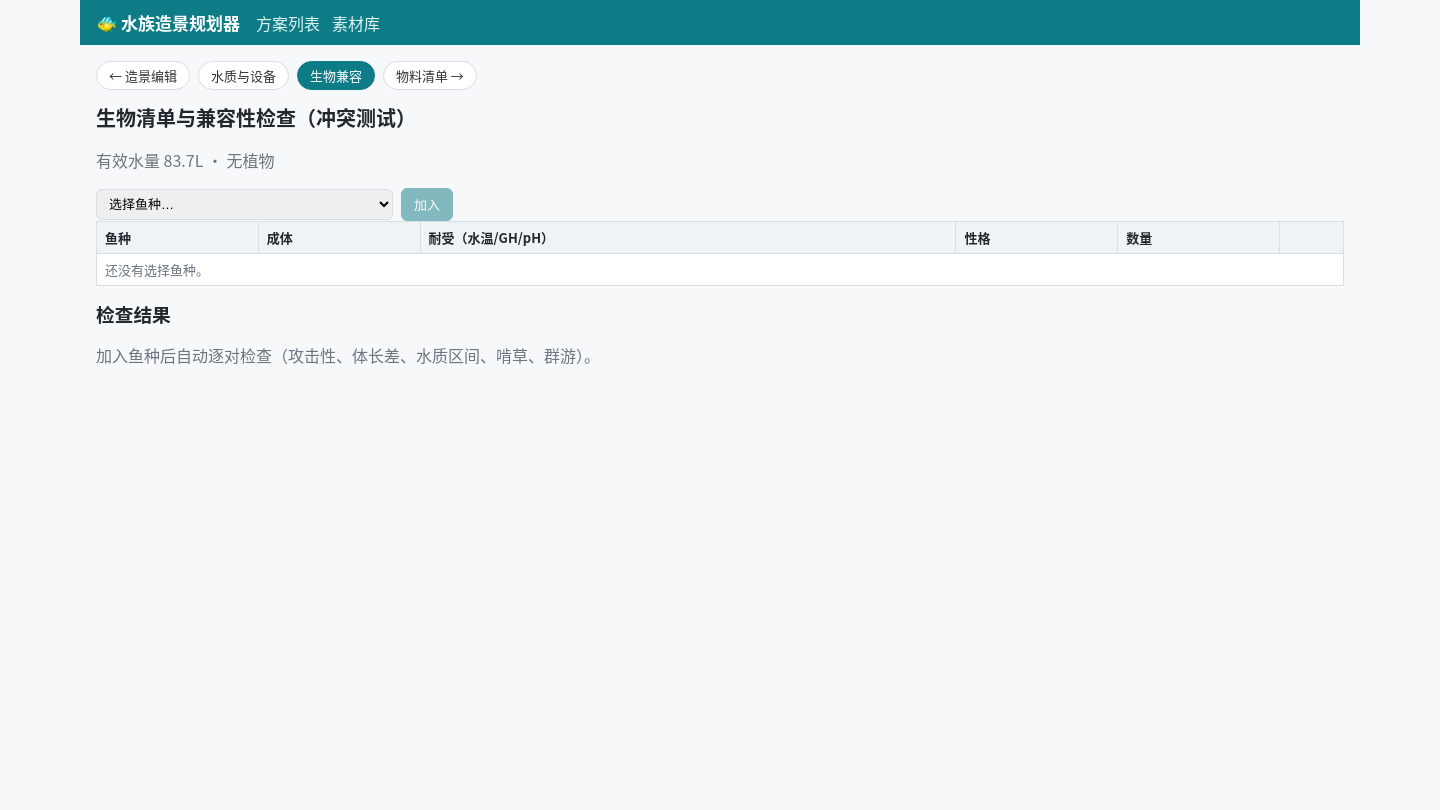
Test: 生物兼容页 › 水质需求无交集 → 硬冲突显示
This screenshot has width=1440, height=810.
Expected: the element with test id "stocking-page" is shown, [96,61,1344,367]
Select "金鱼（成体 20cm，≥100L）" in the dropdown with test id "fish-select" at (244, 205), box [96,189,393,220]
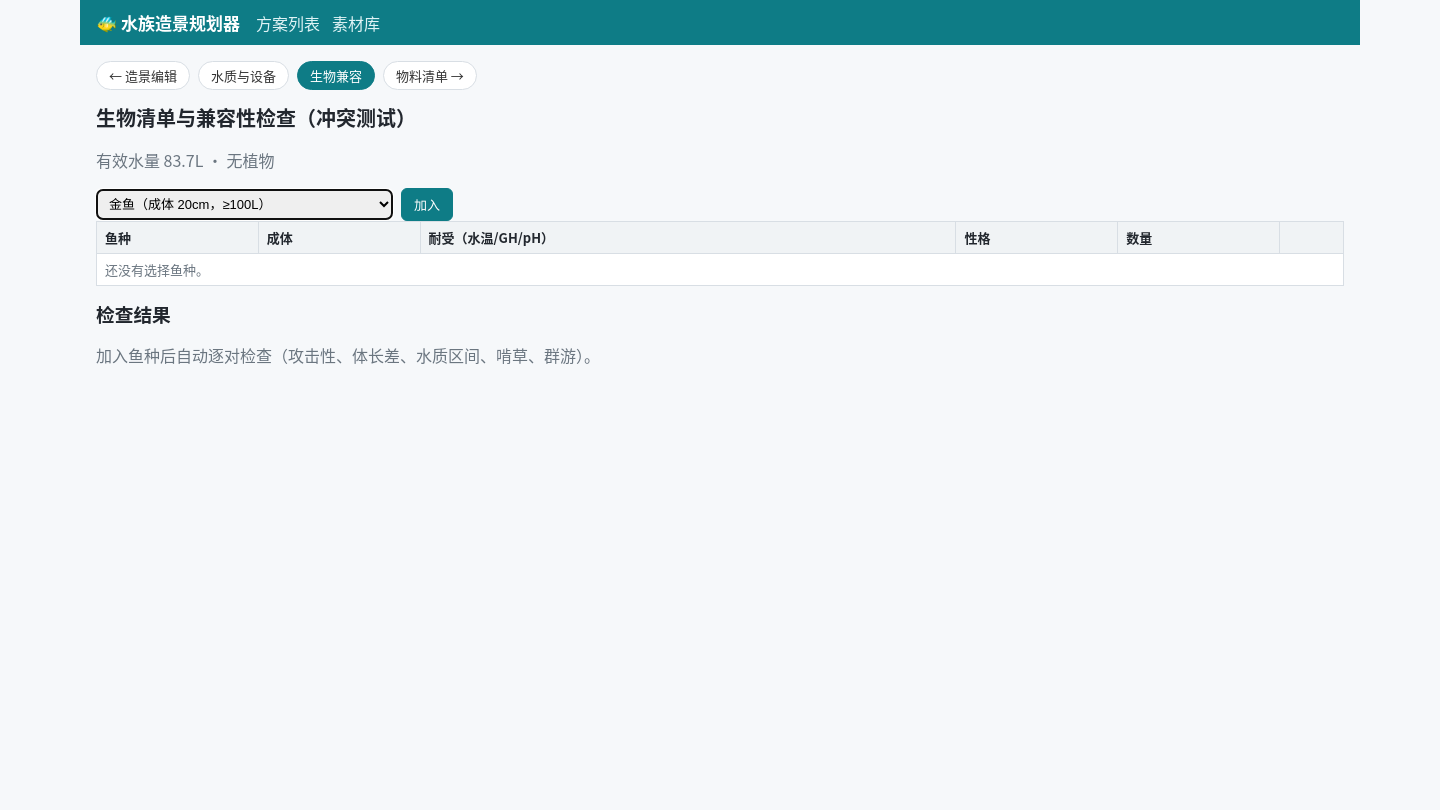
Click the button with test id "add-fish".
click(427, 205)  # box [401,188,453,221]
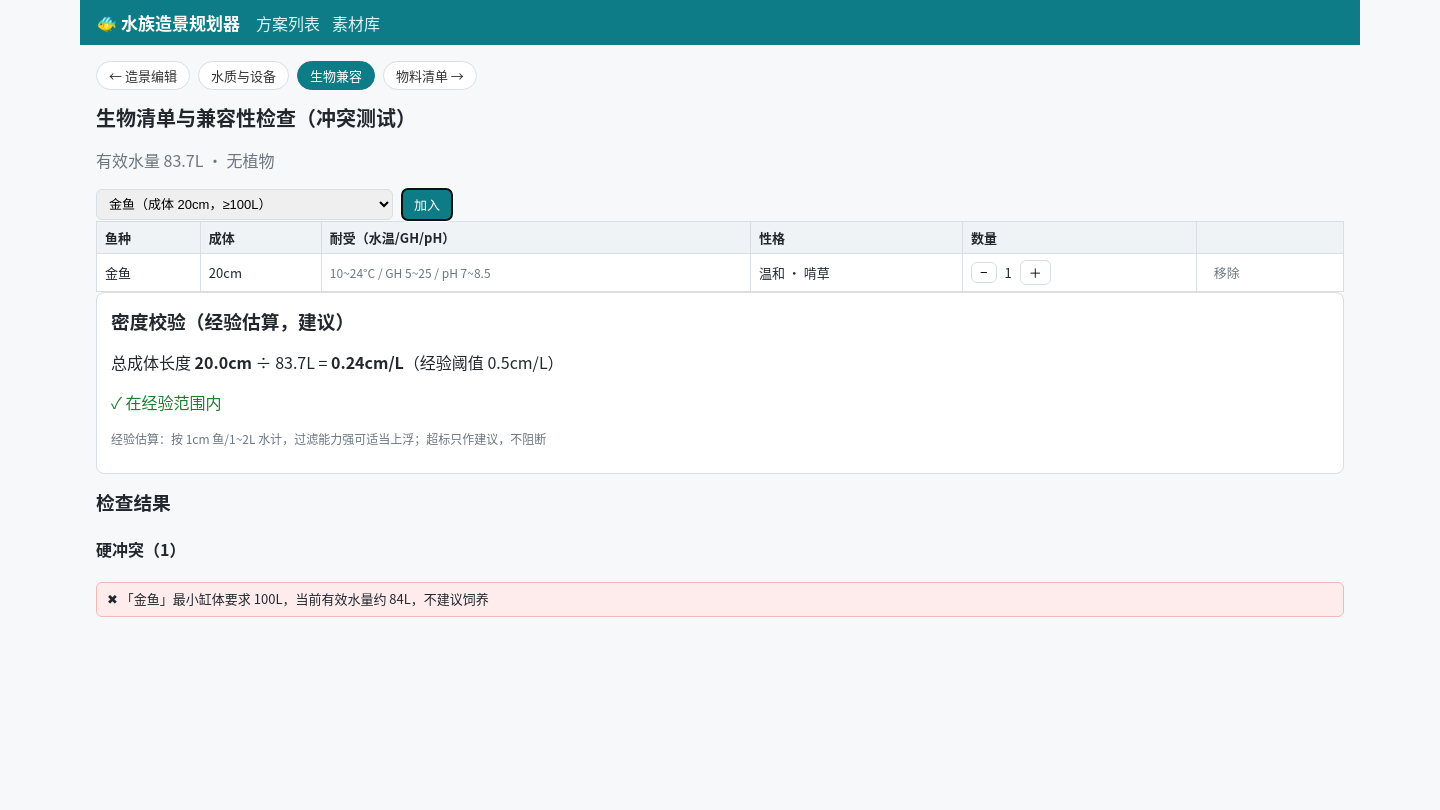
Select "七彩神仙鱼（成体 18cm，≥250L）" in the dropdown with test id "fish-select" at (244, 205), box [96,189,393,220]
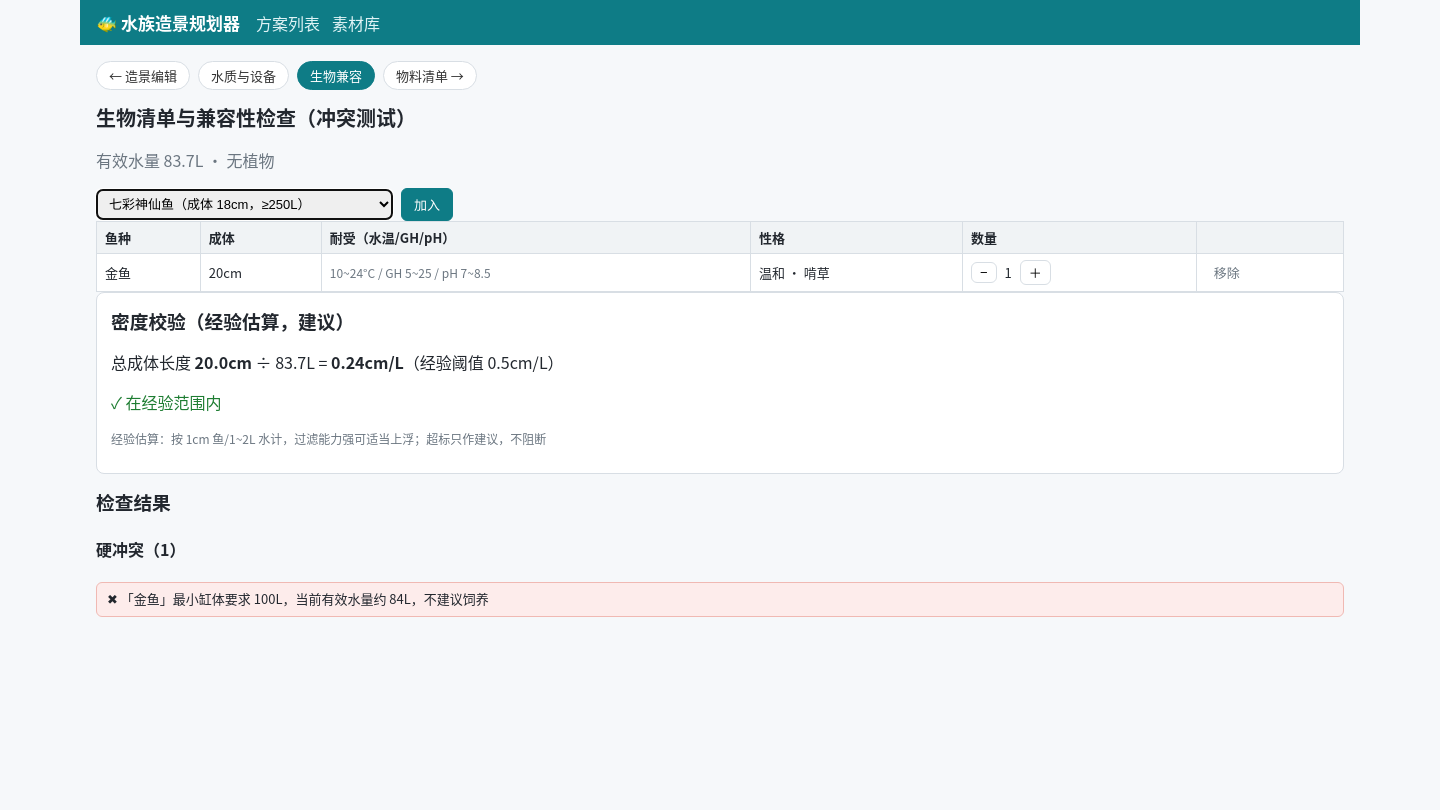
Click the button with test id "add-fish".
click(427, 205)  # box [401,188,453,221]
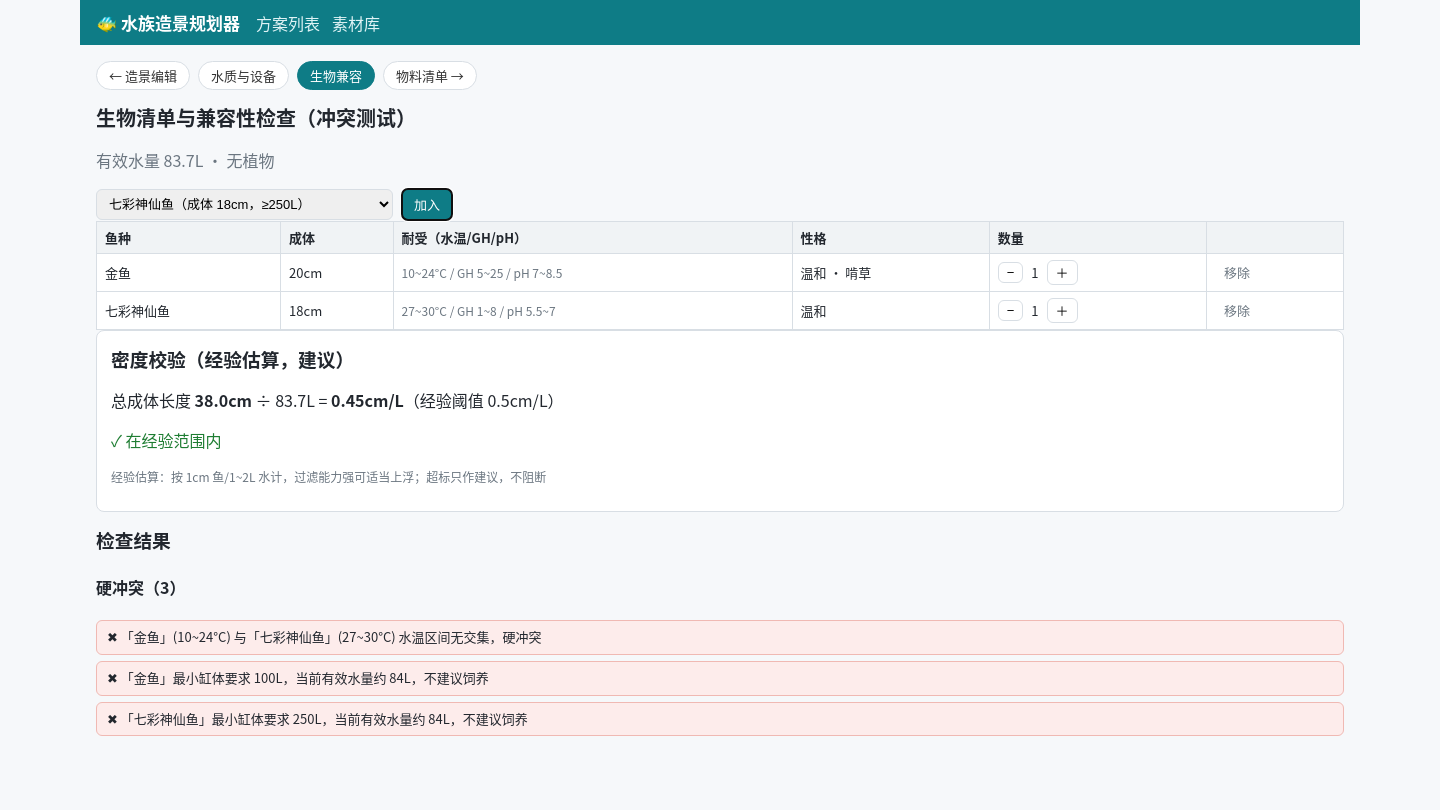
Result: the text with test id "issue-param-temp" shows "水温" at [96,620,1344,655]
